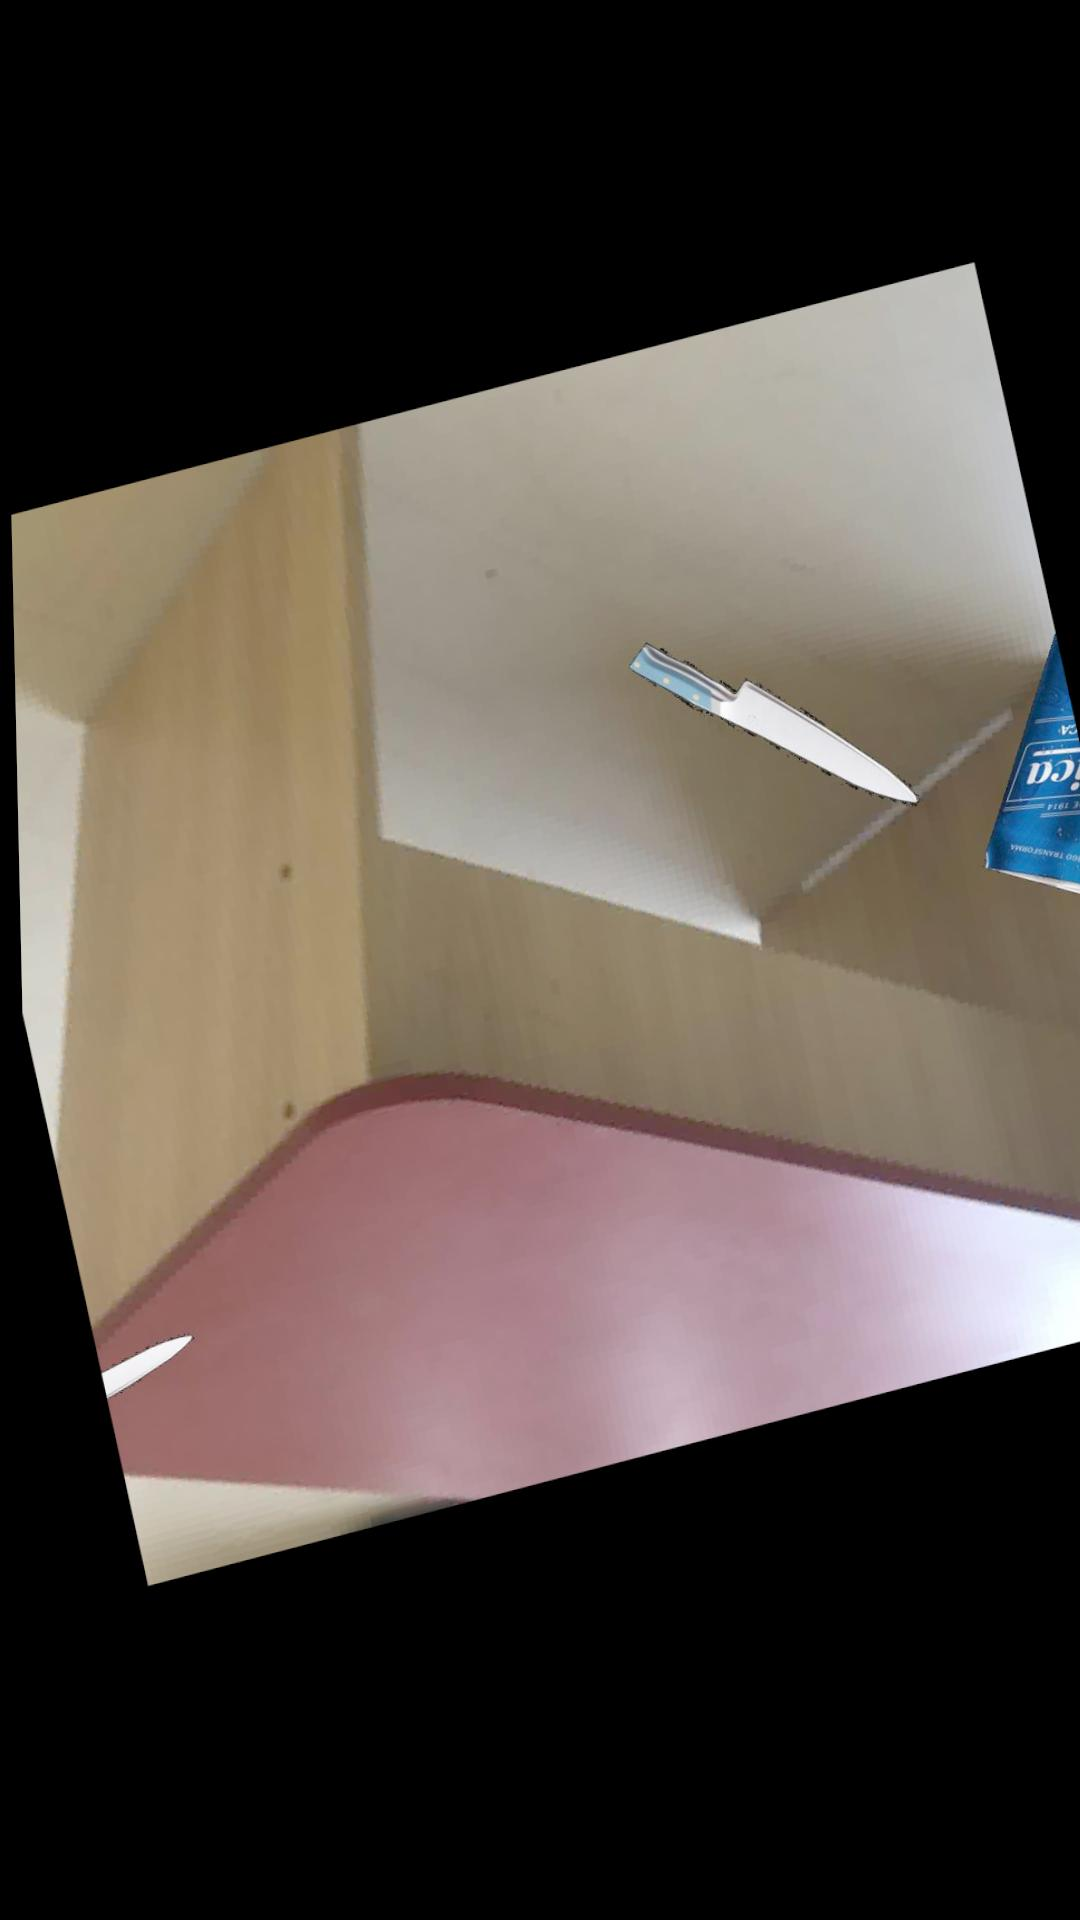knife: (626, 650, 915, 818), (95, 1335, 187, 1399)
tonic: (981, 646, 1080, 909)
